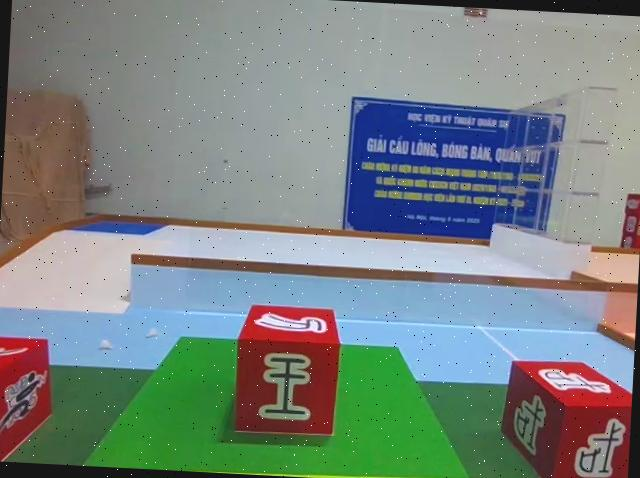R1: (0, 333, 54, 464)
R2 Fake: (232, 297, 347, 441)
R2 Real: (497, 348, 634, 478)
